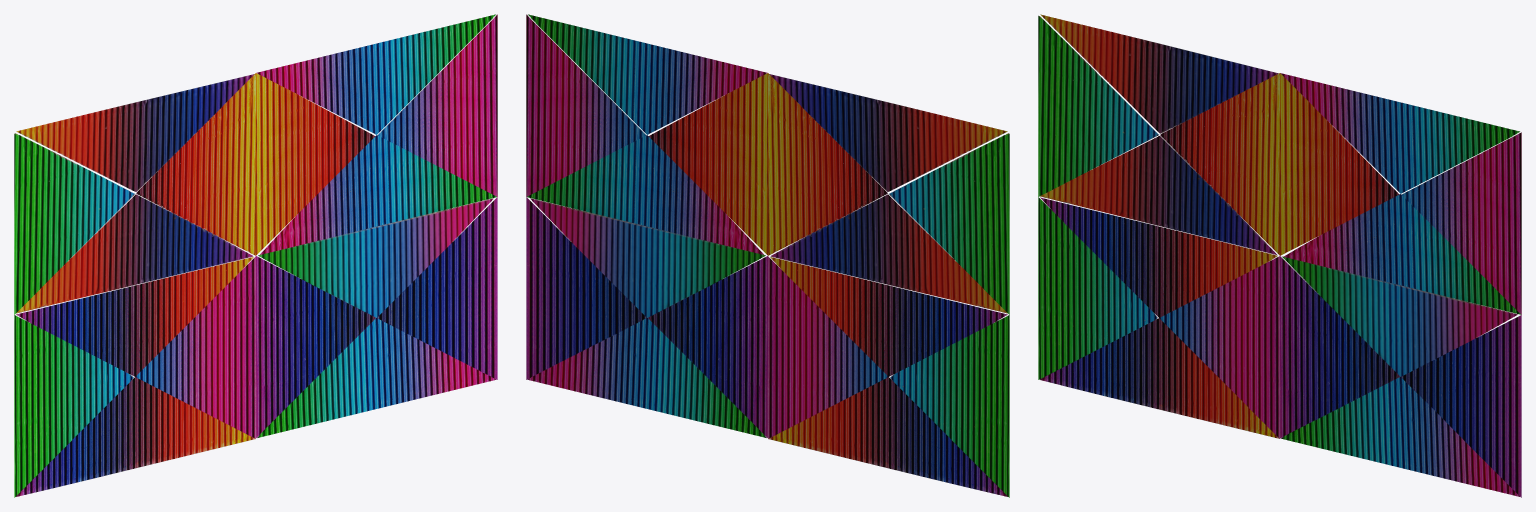
File: planeMaterial.fbx
The picture shows the model from 3 angles, left to right: view 1: azimuth 30°, elevation 25°; view 2: azimuth 150°, elevation 25°; view 3: azimuth 330°, elevation 25°; orthographic projection.
Parts seen in each view (by area): view 1: p6, p16, p15, p12, p10, p9, p1, p11, p8, p14, p3, p13 (+4 smaller); view 2: p16, p6, p12, p10, p9, p1, p15, p11, p8, p14, p13, p3 (+4 smaller); view 3: p10, p6, p12, p9, p15, p1, p8, p11, p16, p3, p14, p7 (+4 smaller).
Boxes of the visible parts, x1,y1,x2,y2 form: p6: (256,14,495,134); p16: (257,318,495,437); p15: (377,197,497,379); p12: (16,377,255,496); p10: (16,257,253,376); p9: (14,315,133,497); p1: (14,133,134,314); p11: (135,257,255,438); p8: (260,135,496,254); p14: (258,198,493,317); p3: (136,73,255,255); p13: (255,256,375,437); p16: (528,318,766,437); p6: (528,14,767,134); p12: (768,377,1007,496); p10: (770,257,1007,376); p9: (890,315,1009,497); p1: (889,133,1009,314); p15: (526,197,646,379); p11: (768,257,888,438); p8: (527,135,763,254); p14: (530,198,765,317); p13: (648,256,768,437); p3: (768,73,887,255); p10: (1040,197,1277,317); p6: (1280,73,1519,193); p12: (1040,318,1279,438); p9: (1038,197,1157,379); p15: (1401,315,1521,497); p1: (1038,15,1158,196); p8: (1283,194,1520,314); p11: (1159,256,1279,438); p16: (1281,377,1519,496); p3: (1160,73,1279,255); p14: (1282,256,1517,376); p7: (1401,132,1521,314).
Bounding box in the file's own units: 0.29 × 0.21 × 9.54e-09.
